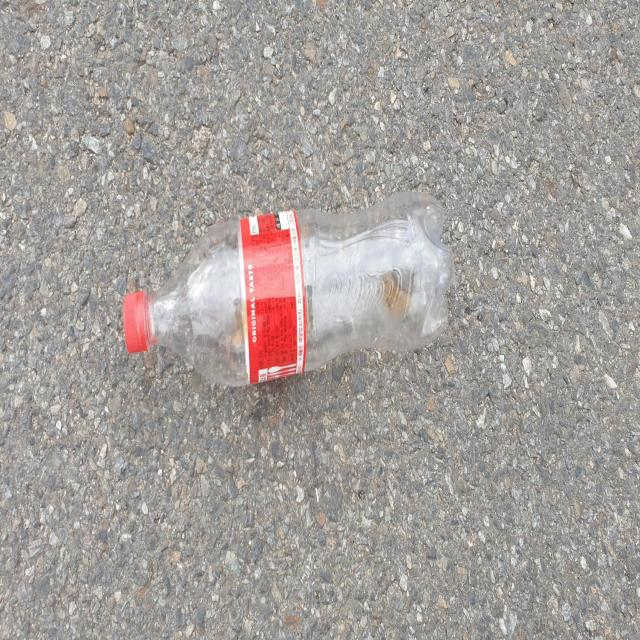plastic: (123, 191, 454, 385)
